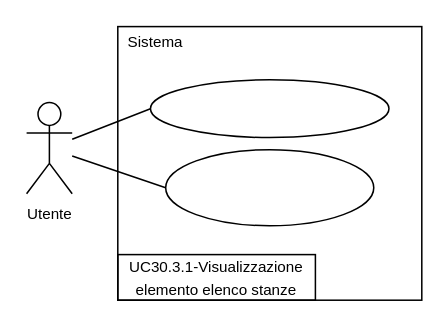
Image size: 448x327. Some labels were removed from this diagram. Each missing label, with the box of its shape:
UC30.3.1.1-Visualizzazione nome: (149, 78, 389, 138)
UC30.3.1.2-Visualizzazione elenco dispositivi: (164, 148, 374, 226)
